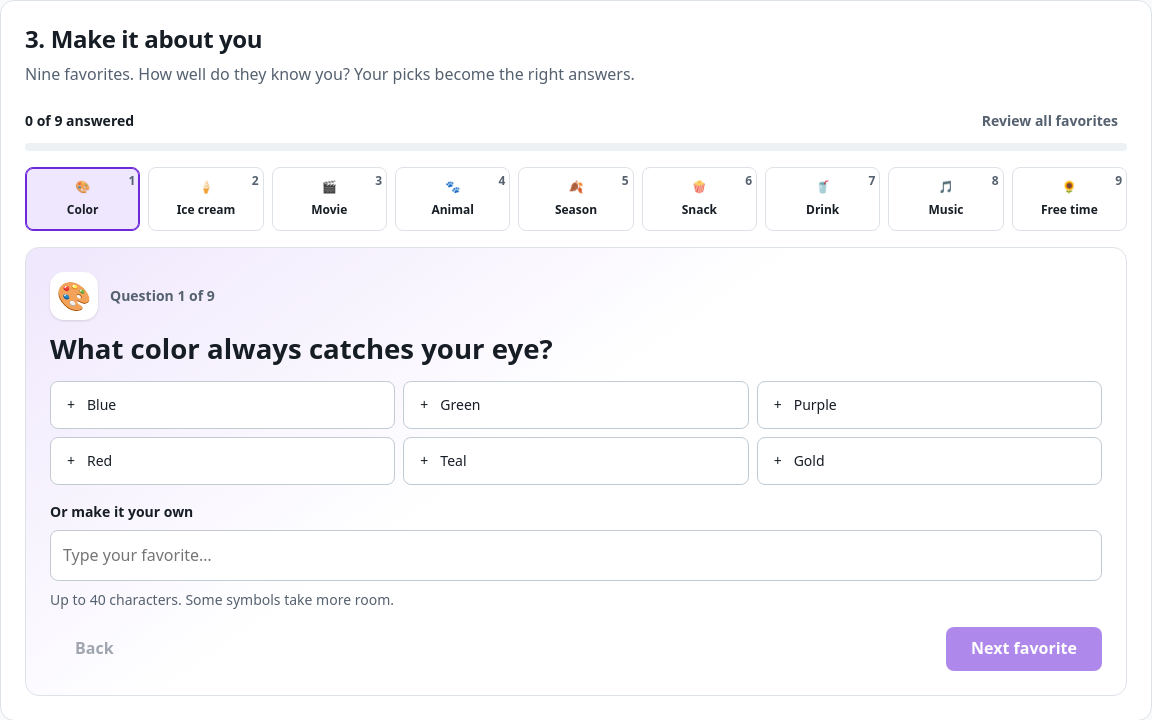
Test: keeps invalid text during jumps and review and counts only valid answers
Type "<b>Teal</b>" into the field labelled "What color always catches your eye?". click: (576, 556)
box: [50, 530, 1102, 581]
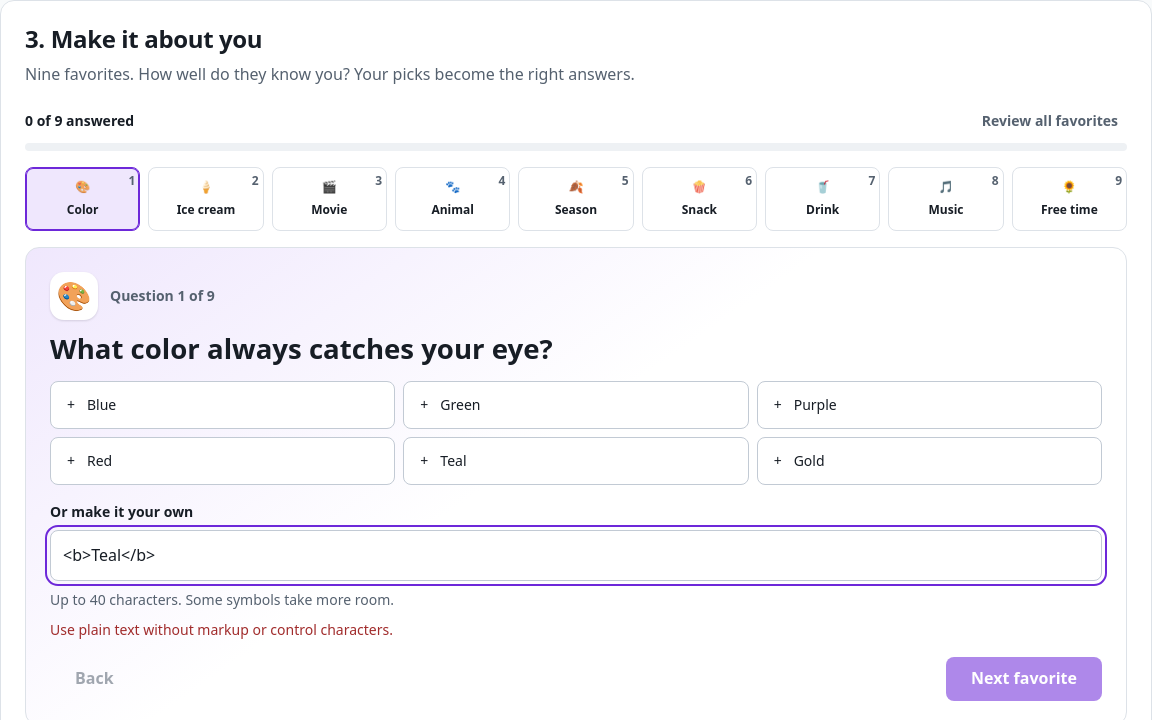
Expected: the button "Next favorite" is disabled, [946, 656, 1102, 700]
Expected: the message "Use plain text without markup or control characters." is shown, [50, 620, 393, 639]
Click the button with aria-label "Question 4:". click: (453, 199)
box: [395, 167, 510, 231]
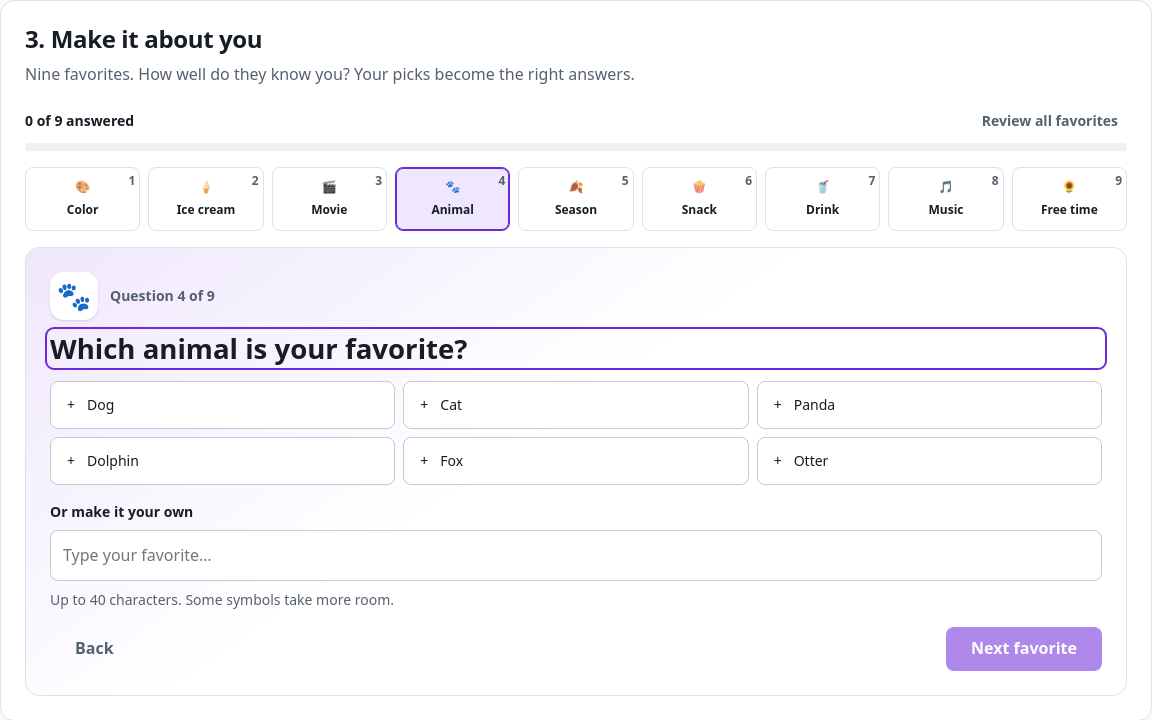
Click the button "+ Otter". click: (811, 460)
box: [757, 437, 1102, 485]
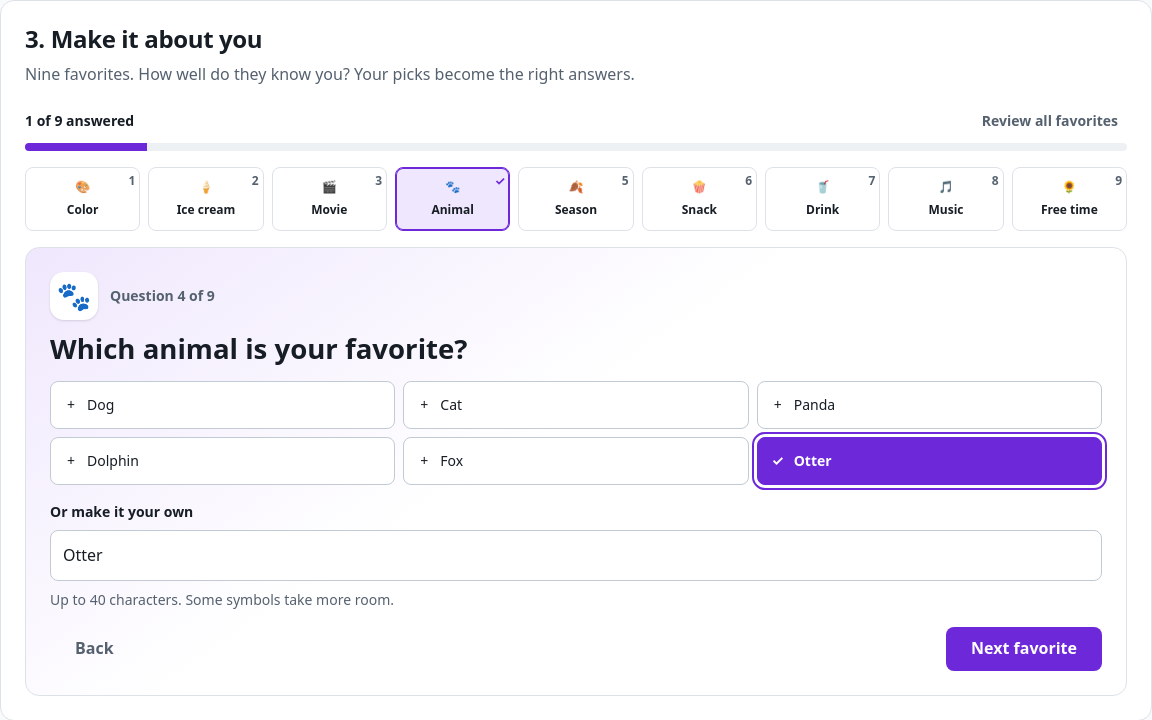
Click the button "Review all favorites". click: (1050, 121)
box: [973, 99, 1127, 143]
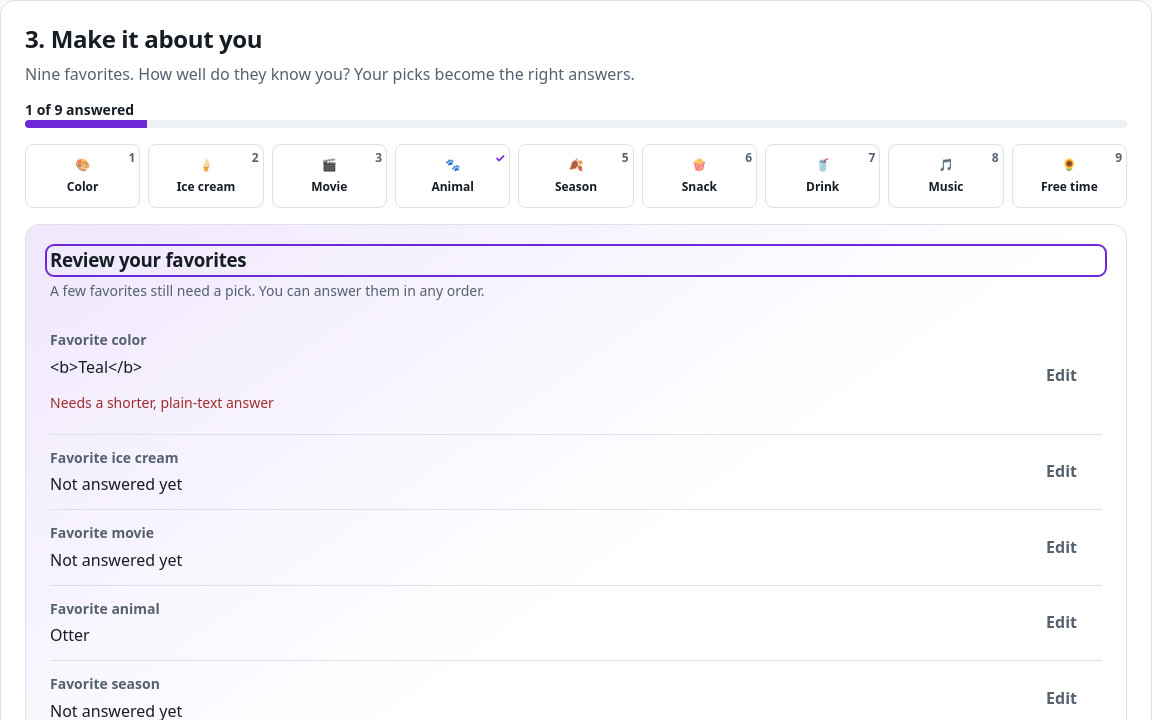
Expected: the message reads "1 of 9 answered", [25, 99, 134, 120]
Expected: the text "<b>Teal</b>" is shown, [50, 356, 142, 378]
Expected: the text "Needs a shorter, plain-text answer" is shown, [50, 392, 274, 414]
Click the button with aria-label "Edit favorite color". click: (1062, 376)
box: [1021, 354, 1102, 398]
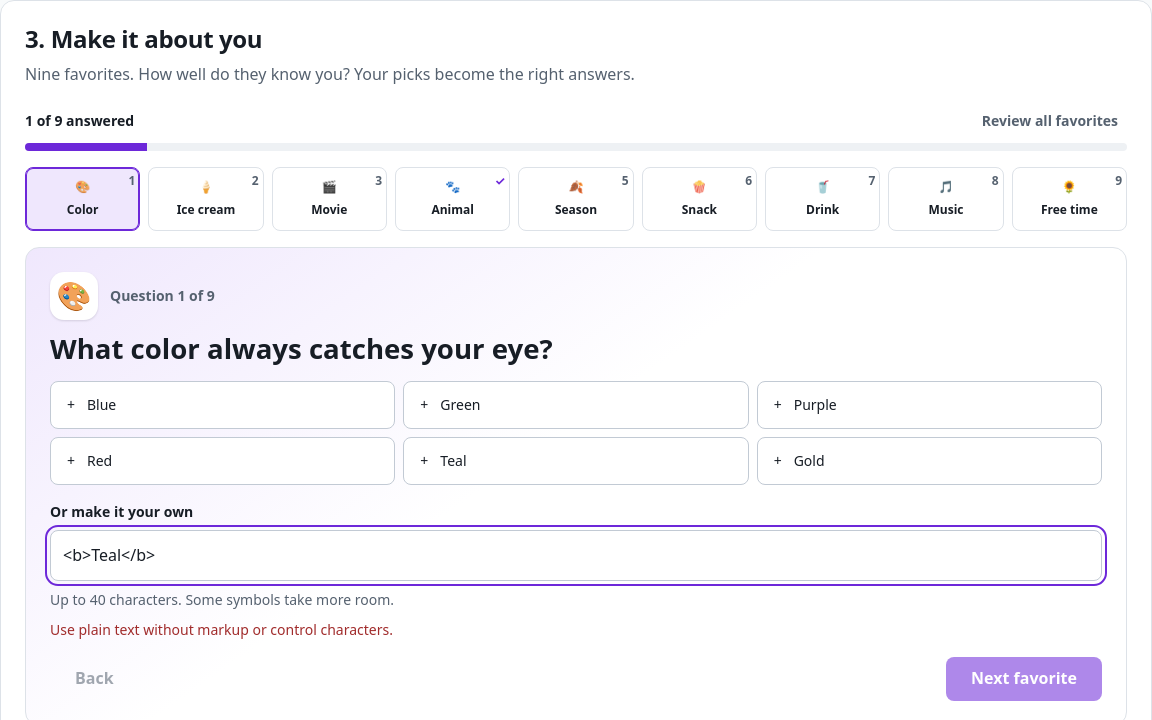
Expected: the field labelled "What color always catches your eye?" holds "<b>Teal</b>", [50, 530, 1102, 581]
Click the button "+ Teal". click: (424, 460)
box: [403, 437, 749, 485]
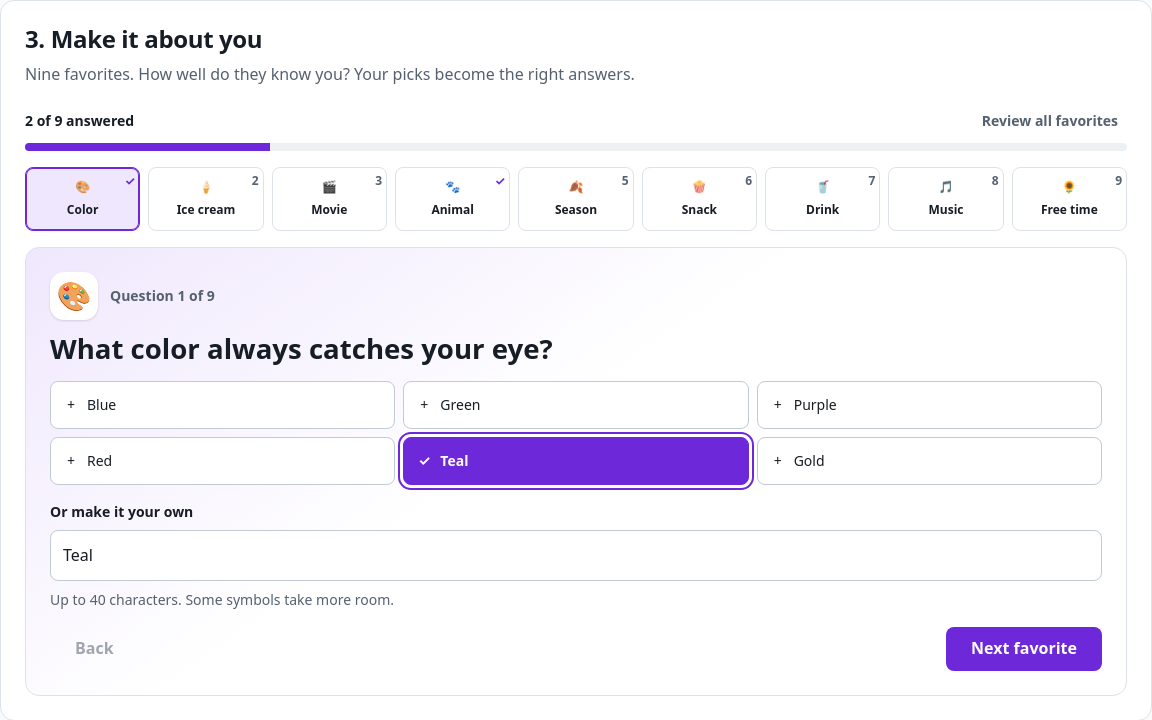
Expected: the message "Use plain text without markup or control characters." is gone
Expected: the message reads "2 of 9 answered", [25, 110, 134, 132]
